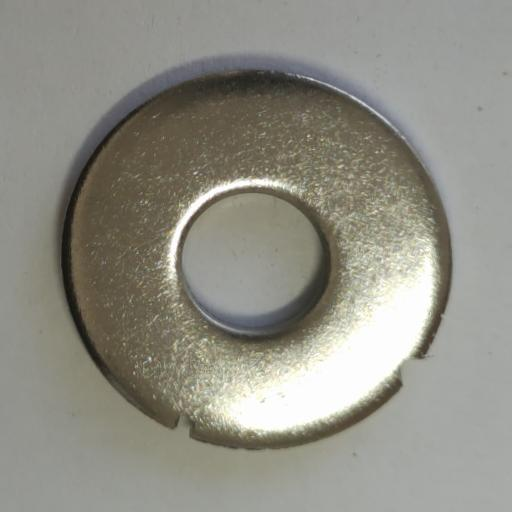burr: (397, 357, 426, 388), (172, 412, 196, 439)
